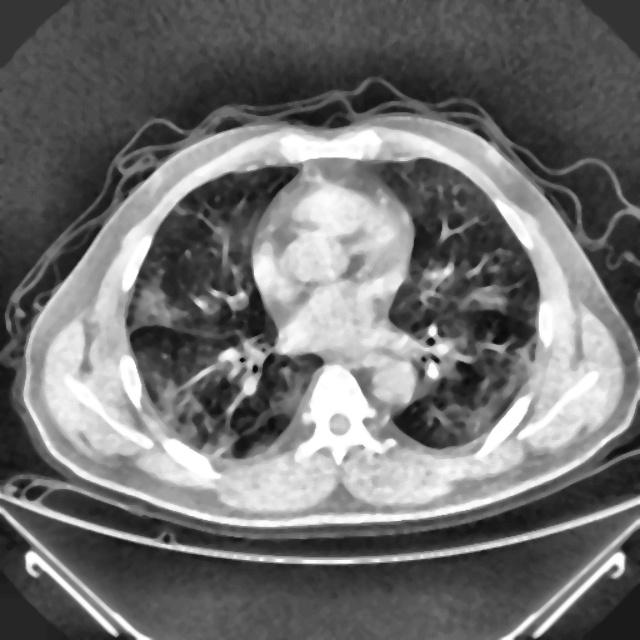covid: (6, 81, 638, 540)
